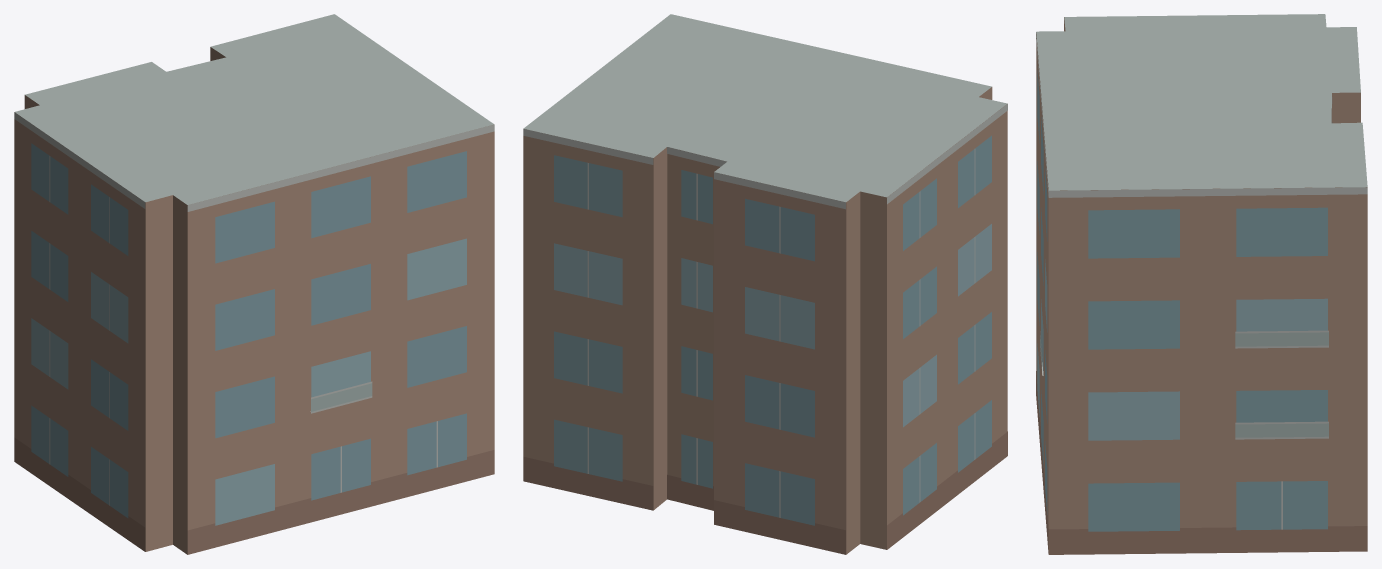
Rendered from survey-upis-32509591.glb.
The picture shows the model from 3 angles, left to right: view 1: azimuth 30°, elevation 25°; view 2: azimuth 150°, elevation 25°; view 3: azimuth 270°, elevation 25°; orthographic projection. The views are drawn at different scales.
Visible parts, largest first — view 1: survey-upis-32509591.tmp; view 2: survey-upis-32509591.tmp; view 3: survey-upis-32509591.tmp.
Part boxes in pixels (x1,y1,x2,y2): survey-upis-32509591.tmp: (14, 14, 494, 554); survey-upis-32509591.tmp: (523, 14, 1007, 554); survey-upis-32509591.tmp: (1036, 14, 1367, 554).
Size of the model in its own units: 12.69 by 12.2 by 10.07.
